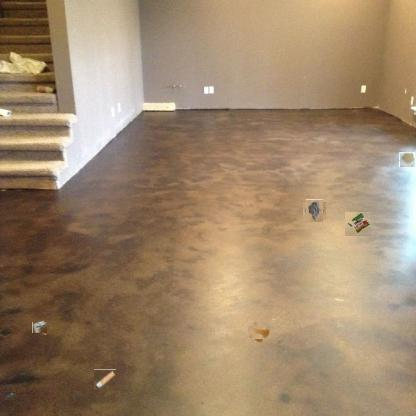dirty: (345, 212, 371, 236), (94, 369, 116, 390), (304, 201, 325, 221), (33, 321, 47, 334), (2, 392, 16, 400)
liquid: (250, 323, 268, 341), (399, 152, 415, 167)
